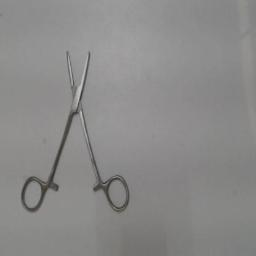Mayo Needle Holder: (18, 41, 132, 217)
